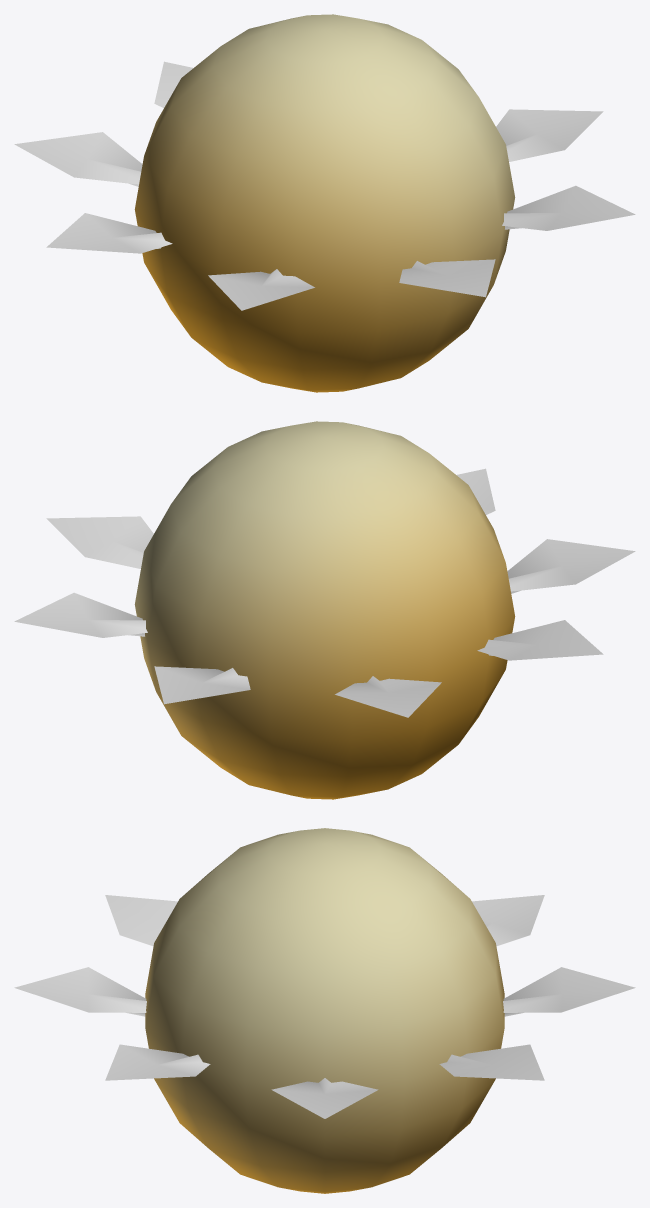
The model's file is Sunmote.fbx.
The picture shows the model from 3 angles, top to bottom: view 1: azimuth 30°, elevation 25°; view 2: azimuth 150°, elevation 25°; view 3: azimuth 270°, elevation 25°; orthographic projection. The views are drawn at different scales.
Parts seen in each view (by area): view 1: Orb, Rays; view 2: Orb, Rays; view 3: Orb, Rays.
Part boxes in pixels (x1,y1,x2,y2): Orb: (134, 14, 515, 392); Rays: (14, 61, 635, 310); Orb: (134, 421, 515, 799); Rays: (14, 468, 635, 717); Orb: (145, 828, 504, 1193); Rays: (14, 895, 635, 1118).
Size of the model in its own units: 0.3376 by 0.2 by 0.3376.
